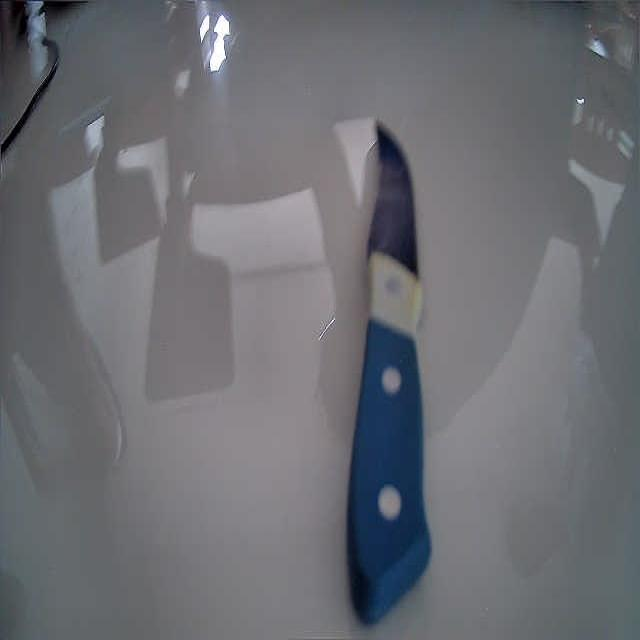knife: (344, 117, 432, 627)
